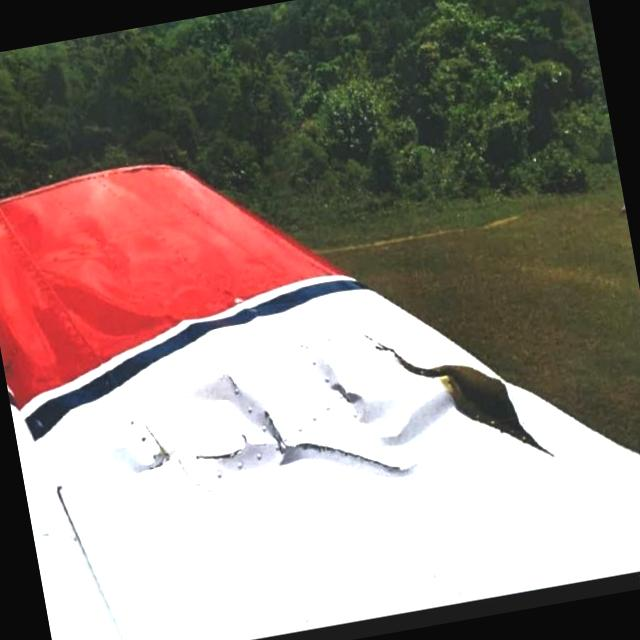crack: (276, 422, 402, 479), (255, 394, 308, 472), (195, 438, 249, 475), (209, 376, 243, 418)
